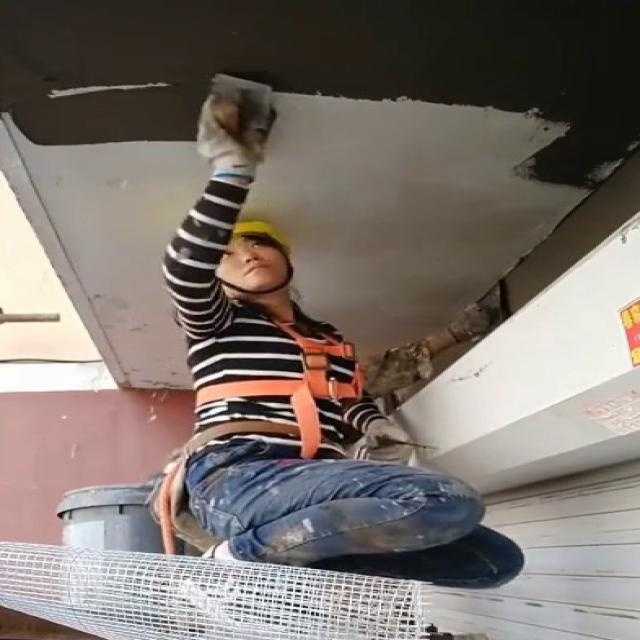Arnes_seguridad: (181, 296, 366, 431)
